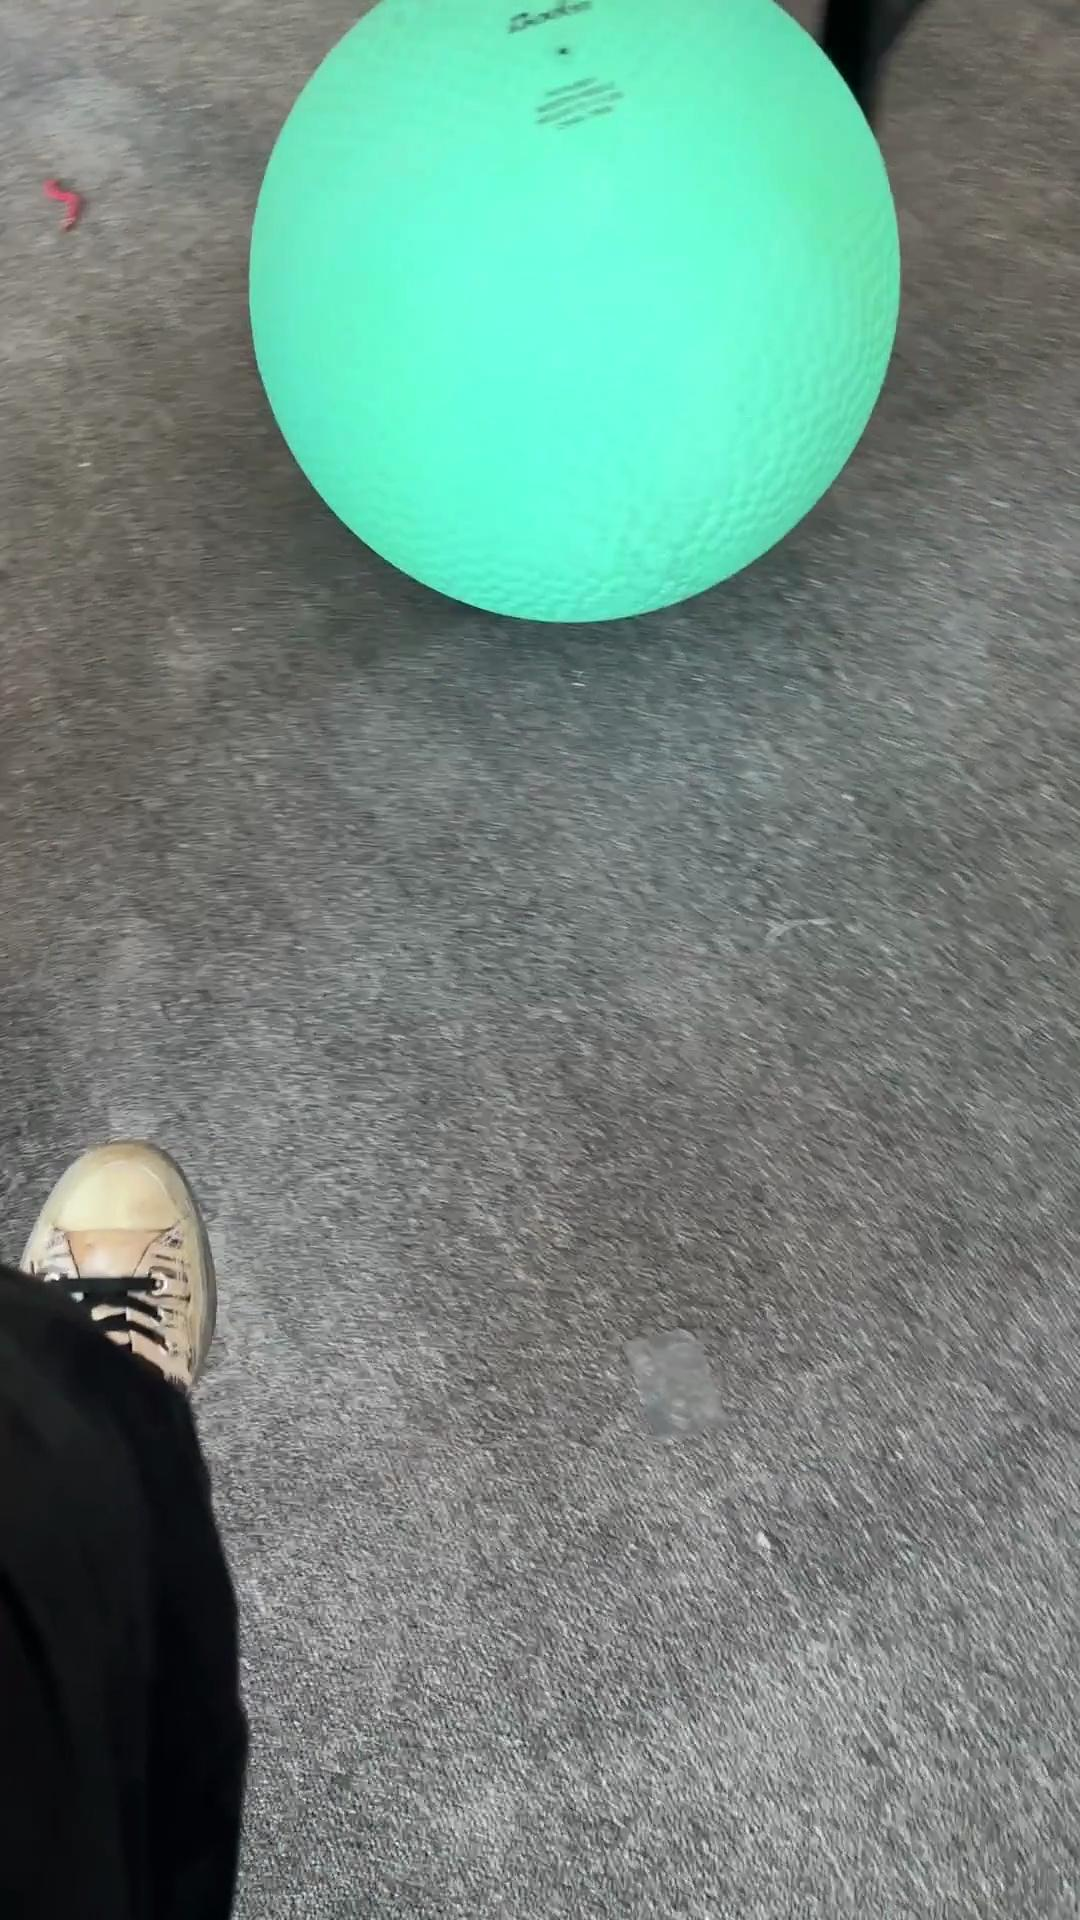ALGAE: (245, 0, 903, 625)
